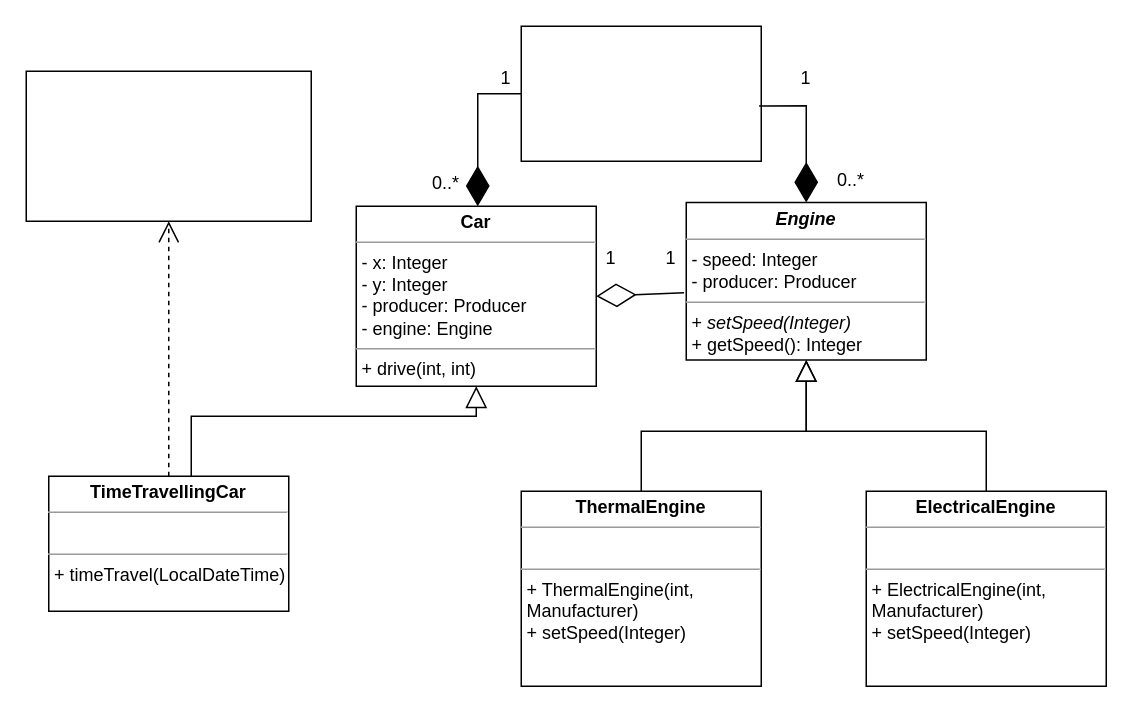
The diagram is 1133 pixels wide and 713 high, and some of its shapes have lost their labels. The shapes that lost their labels are listed below. From the top down, each one's box as (x1, y1, x2, y2) in pixels, then its label:
(520, 25, 761, 161): Producer - brandName: String
(25, 70, 311, 221): <<Interface>> TimeTravelling + timeTravel(LocalDateTime)
